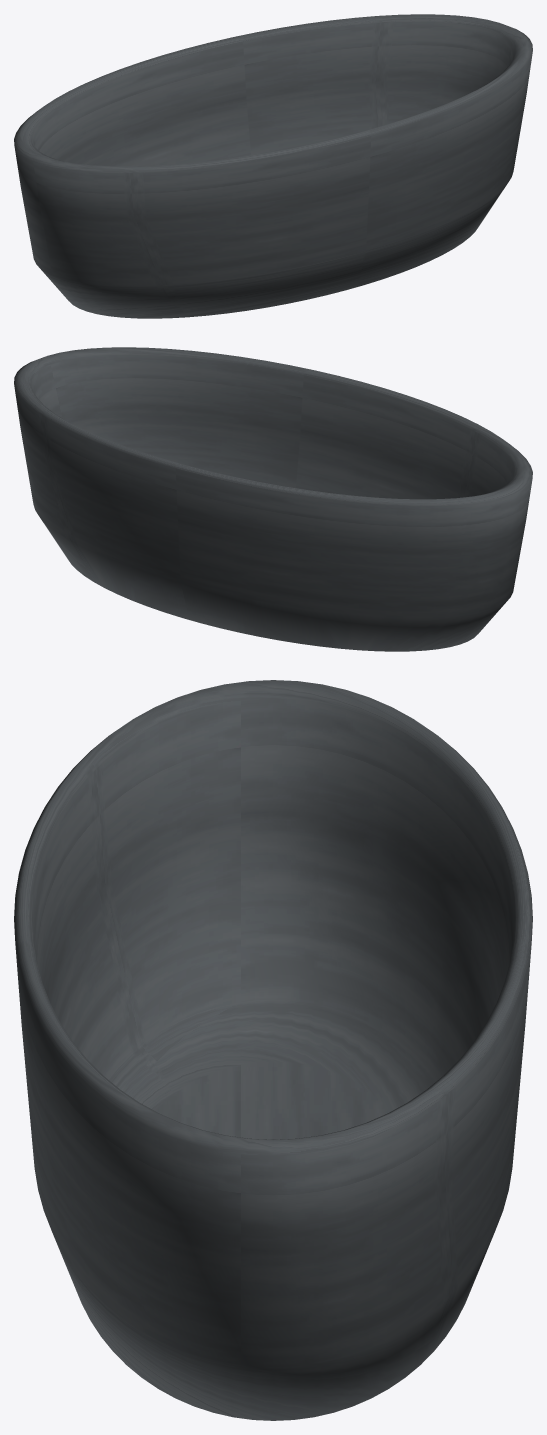
The model's file is curated-bath-stone.glb.
3 renders of one model, top to bottom at view 1: azimuth 30°, elevation 25°; view 2: azimuth 150°, elevation 25°; view 3: azimuth 270°, elevation 25°, orthographic. The views are drawn at different scales.
Visible parts, largest first — view 1: SubPart.001; view 2: SubPart.001; view 3: SubPart.001.
Part boxes in pixels (box(x1,y1,x2,y2)): SubPart.001: box(14, 14, 532, 318); SubPart.001: box(14, 347, 532, 651); SubPart.001: box(14, 680, 532, 1420).
Bounding box in the file's own units: 1.7 × 0.535 × 0.784.
Materials: 2 (2 with a texture image).
